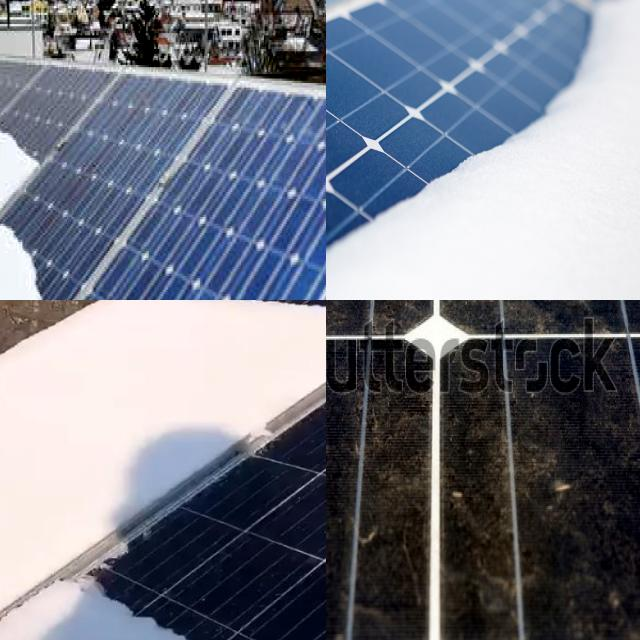dust: (447, 344, 562, 640), (453, 300, 611, 396), (589, 343, 640, 640), (375, 343, 420, 640), (326, 339, 370, 640), (326, 300, 433, 402), (326, 344, 360, 640), (445, 300, 640, 337), (326, 300, 391, 398), (326, 300, 415, 332)
panel: (368, 90, 518, 292), (105, 375, 304, 523), (73, 561, 326, 640), (457, 115, 597, 229), (560, 2, 640, 137), (150, 300, 326, 354), (565, 0, 640, 124), (326, 226, 442, 300), (326, 0, 550, 30), (326, 0, 390, 85), (0, 119, 51, 222), (0, 232, 56, 300), (326, 0, 383, 60), (154, 300, 303, 316)
